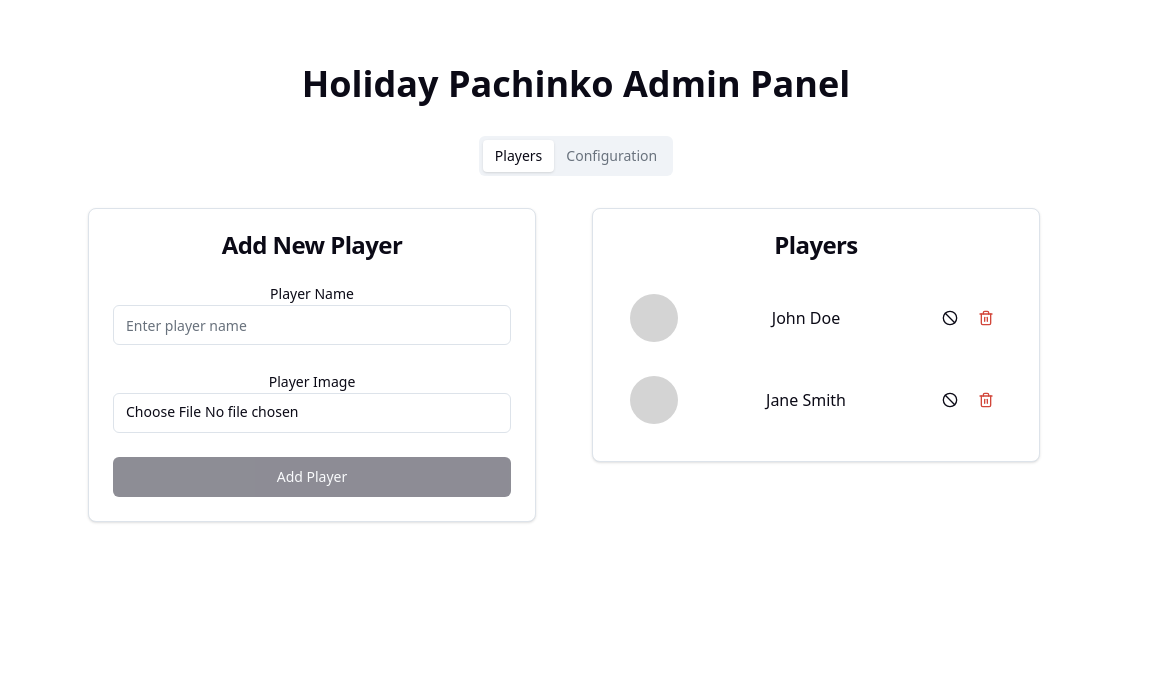
Test case: Player Sidebar Management Integration › State Coordination › should switch between different players in edit mode
Select first player
Click the text "John Doe" at (806, 318), box x1=772 y1=307 x2=840 y2=329
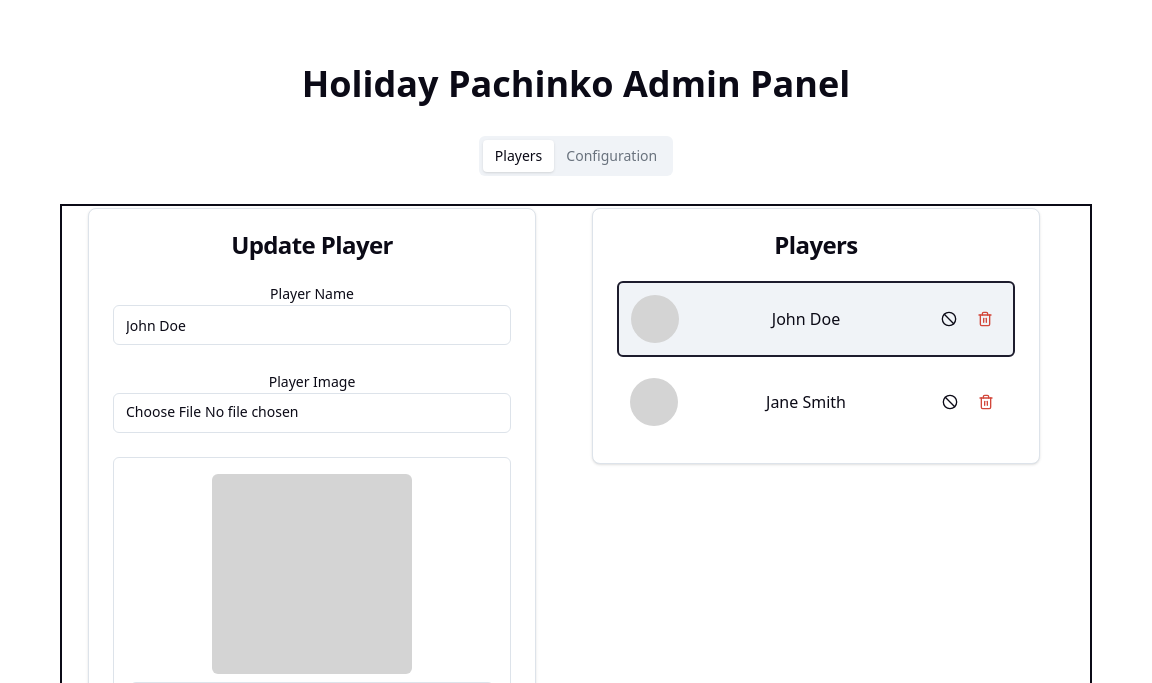
Expected: the field with placeholder "Enter player name" holds "John Doe", x1=113 y1=305 x2=511 y2=345
Select second player
Click the text "Jane Smith" at (806, 402), box x1=766 y1=391 x2=846 y2=413
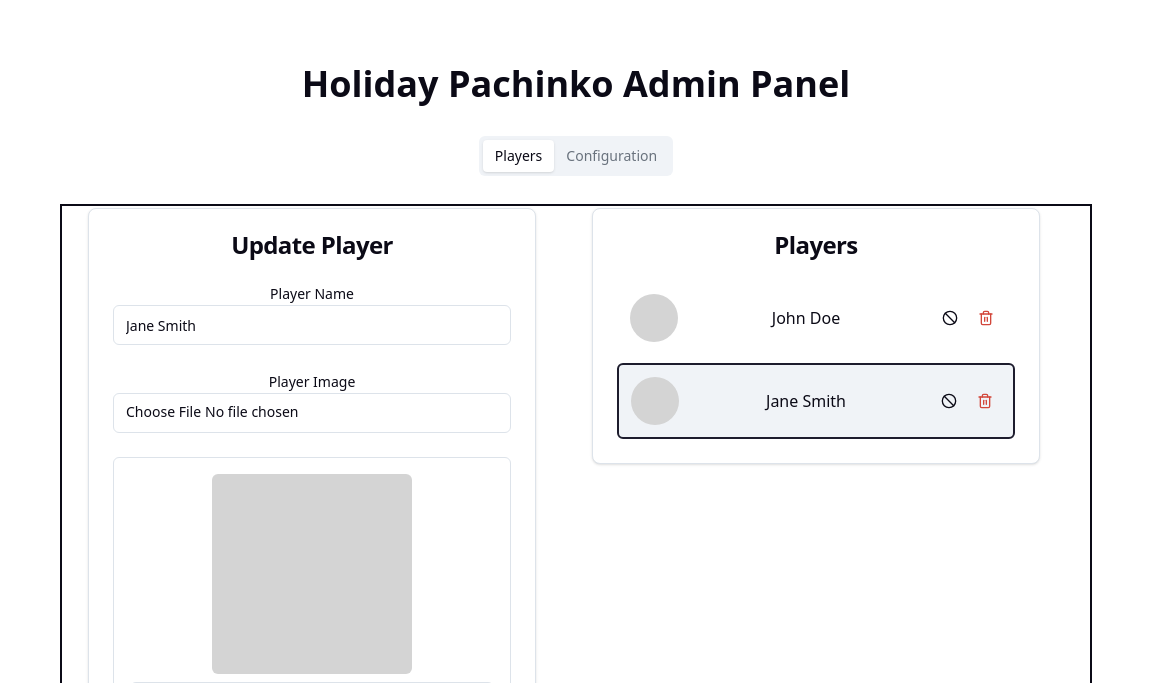
Expected: the field with placeholder "Enter player name" holds "Jane Smith", x1=113 y1=305 x2=511 y2=345
